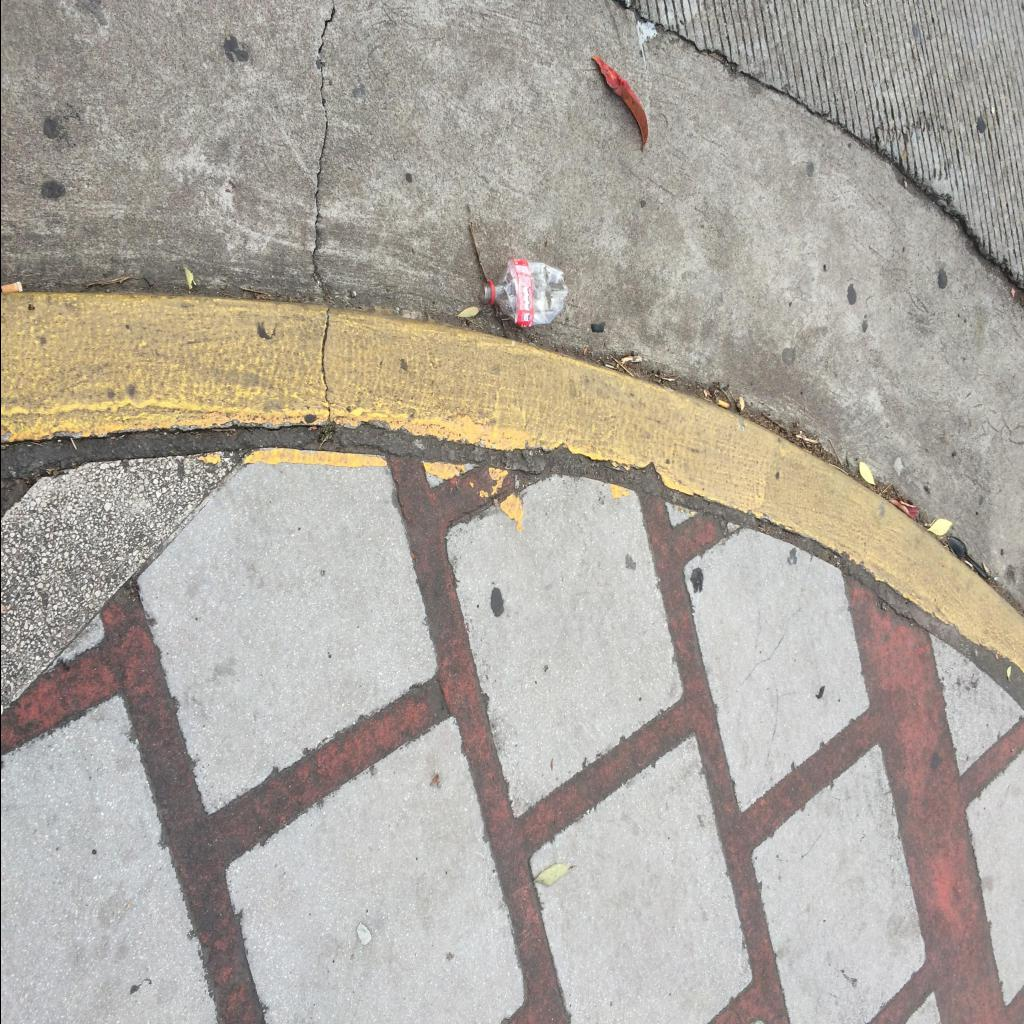Cigarette: (2, 282, 22, 294), (716, 398, 728, 404)
Clear plastic bottle: (479, 259, 567, 327)
